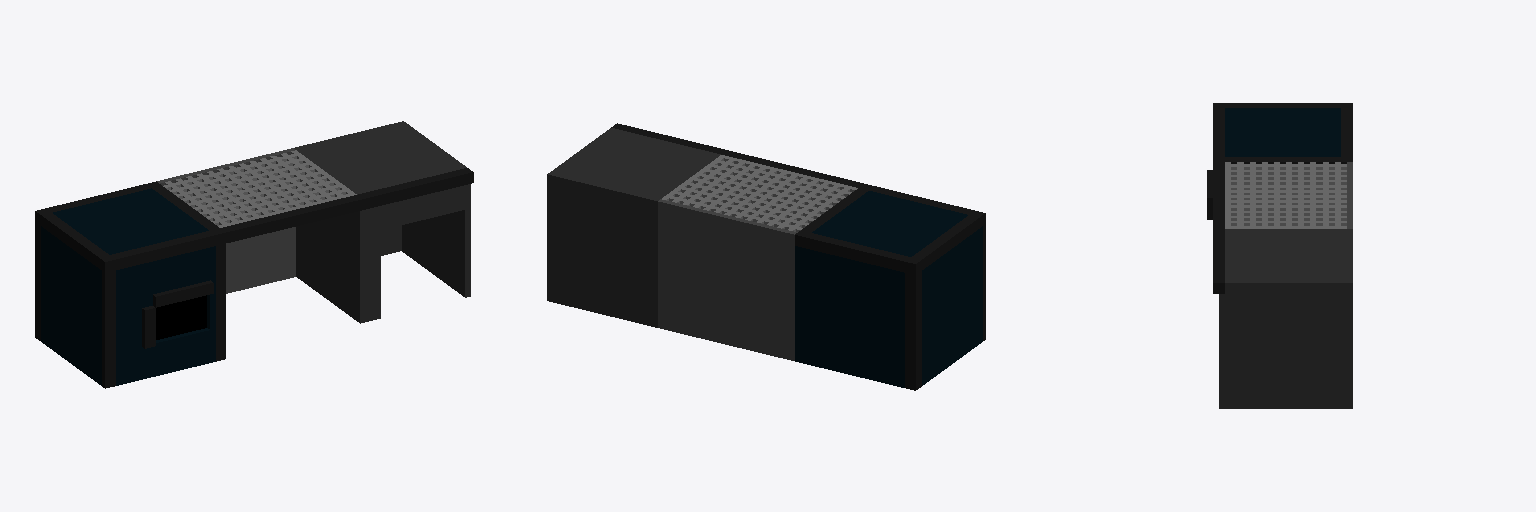
The picture shows the model from 3 angles: view 1: azimuth 30°, elevation 25°; view 2: azimuth 150°, elevation 25°; view 3: azimuth 270°, elevation 25°; orthographic projection.
Visible parts, largest first — view 1: TripleHouse; view 2: TripleHouse; view 3: TripleHouse.
Boxes of the visible parts, <box> form: TripleHouse: <box>35,121,473,388</box>; TripleHouse: <box>547,123,985,390</box>; TripleHouse: <box>1207,103,1352,408</box>.
Bounding box in the file's own units: 7 × 2.3 × 2.4.
Materials: 1 (1 with a texture image).